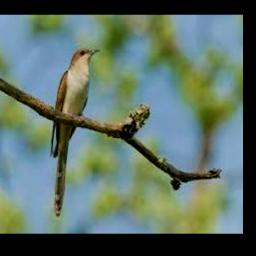Cuckoo: (50, 48, 102, 217)
